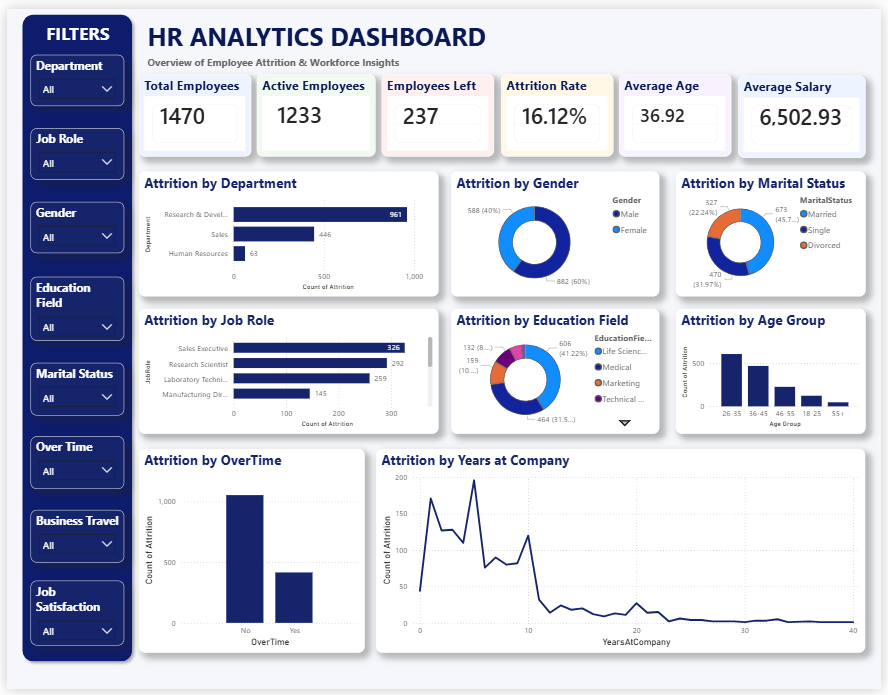

This screenshot's page, from the dashboard's own definition file:
{"tool":"powerbi","page":{"name":"Page 1","canvas":[1400,1090],"ordinal":0},"visuals":[{"type":"shape","box":[16,0,194,1054],"z":0},{"type":"textbox","title":"HR ANALYTICS DASHBOARD","box":[220,15,600,85],"z":1000},{"type":"cardVisual","title":"Total Employees","fields":{"Data":["Employee.Total Employees"]},"box":[210,105,180,132],"z":2000},{"type":"cardVisual","title":"Active Employees","fields":{"Data":["Employee.Active Employees"]},"box":[400,105,190,132],"z":3000},{"type":"cardVisual","title":"Employees Left","fields":{"Data":["Employee.Employees Left"]},"box":[600,105,180,132],"z":4000},{"type":"cardVisual","title":"Attrition Rate","fields":{"Data":["Employee.Attrition Rate"]},"box":[790,105,180,132],"z":5000},{"type":"cardVisual","title":"Average Age","fields":{"Data":["Employee.Average Age"]},"box":[980,105,180,132],"z":6000},{"type":"cardVisual","title":"Average Salary","fields":{"Data":["Employee.Average Salary"]},"box":[1170,106,204,132],"z":7000},{"type":"clusteredBarChart","title":"Attrition by Department","fields":{"Category":["Employee.Department"],"Y":["CountNonNull(Employee.Attrition)"]},"box":[210,260,480,200],"z":7001},{"type":"donutChart","title":"Attrition by Gender","fields":{"Y":["CountNonNull(Employee.Attrition)"],"Category":["Employee.Gender"]},"box":[710,260,334,200],"z":7002},{"type":"donutChart","title":"Attrition by Marital Status","fields":{"Y":["CountNonNull(Employee.Attrition)"],"Category":["Employee.MaritalStatus"]},"box":[1070,260,304,200],"z":7003},{"type":"clusteredBarChart","title":"Attrition by Job Role","fields":{"Y":["CountNonNull(Employee.Attrition)"],"Category":["Employee.JobRole"]},"box":[210,480,480,200],"z":7004},{"type":"donutChart","title":"Attrition by Education Field","fields":{"Y":["CountNonNull(Employee.Attrition)"],"Category":["Employee.EducationField"]},"box":[712,480,334,200],"z":7005},{"type":"clusteredColumnChart","title":"Attrition by Age Group","fields":{"Category":["Employee.Age Group"],"Y":["CountNonNull(Employee.Attrition)"]},"box":[1070,480,304,200],"z":7006},{"type":"clusteredColumnChart","title":"Attrition by OverTime","fields":{"Y":["CountNonNull(Employee.Attrition)"],"Category":["Employee.OverTime"]},"box":[210,703.3,361.7,326.7],"z":7007},{"type":"lineChart","title":"Attrition by Years at Company","fields":{"Category":["Employee.YearsAtCompany"],"Y":["CountNonNull(Employee.Attrition)"]},"box":[590,703.3,783.3,326.7],"z":7008},{"type":"textbox","title":"FILTERS","box":[48,20,130,38],"z":7009},{"type":"slicer","title":"Department","fields":{"Values":["Employee.Department"]},"box":[38,74,150,82],"z":7010},{"type":"slicer","title":"Job Role","fields":{"Values":["Employee.JobRole"]},"box":[38,190,150,82],"z":7011},{"type":"slicer","title":"Gender","fields":{"Values":["Employee.Gender"]},"box":[38,308,150,82],"z":7012},{"type":"slicer","title":"Education Field","fields":{"Values":["Employee.EducationField"]},"box":[38,428,150,102],"z":7013},{"type":"slicer","title":"Marital Status","fields":{"Values":["Employee.MaritalStatus"]},"box":[38,566,150,84],"z":7014},{"type":"slicer","title":"Over Time","fields":{"Values":["Employee.OverTime"]},"box":[38,684,150,84],"z":7015},{"type":"slicer","title":"Business Travel","fields":{"Values":["Employee.BusinessTravel"]},"box":[38,802,150,84],"z":7016},{"type":"slicer","title":"Job Satisfaction","fields":{"Values":["Employee.JobSatisfaction"]},"box":[38,916,150,104],"z":7017}]}

Visuals, with their boxes in screenshot pixels (x1, y1, x2, y2), scaled from the page's 1400x1090 canvas onto the 888x695 screenshot:
shape: crop(10, 0, 133, 672)
"HR ANALYTICS DASHBOARD" textbox: crop(140, 10, 520, 64)
"Total Employees" cardVisual: crop(133, 67, 247, 151)
"Active Employees" cardVisual: crop(254, 67, 374, 151)
"Employees Left" cardVisual: crop(381, 67, 495, 151)
"Attrition Rate" cardVisual: crop(501, 67, 615, 151)
"Average Age" cardVisual: crop(622, 67, 736, 151)
"Average Salary" cardVisual: crop(742, 68, 872, 152)
"Attrition by Department" clusteredBarChart: crop(133, 166, 438, 293)
"Attrition by Gender" donutChart: crop(450, 166, 662, 293)
"Attrition by Marital Status" donutChart: crop(679, 166, 872, 293)
"Attrition by Job Role" clusteredBarChart: crop(133, 306, 438, 434)
"Attrition by Education Field" donutChart: crop(452, 306, 663, 434)
"Attrition by Age Group" clusteredColumnChart: crop(679, 306, 872, 434)
"Attrition by OverTime" clusteredColumnChart: crop(133, 448, 363, 657)
"Attrition by Years at Company" lineChart: crop(374, 448, 871, 657)
"FILTERS" textbox: crop(30, 13, 113, 37)
"Department" slicer: crop(24, 47, 119, 99)
"Job Role" slicer: crop(24, 121, 119, 173)
"Gender" slicer: crop(24, 196, 119, 249)
"Education Field" slicer: crop(24, 273, 119, 338)
"Marital Status" slicer: crop(24, 361, 119, 414)
"Over Time" slicer: crop(24, 436, 119, 490)
"Business Travel" slicer: crop(24, 511, 119, 565)
"Job Satisfaction" slicer: crop(24, 584, 119, 650)
